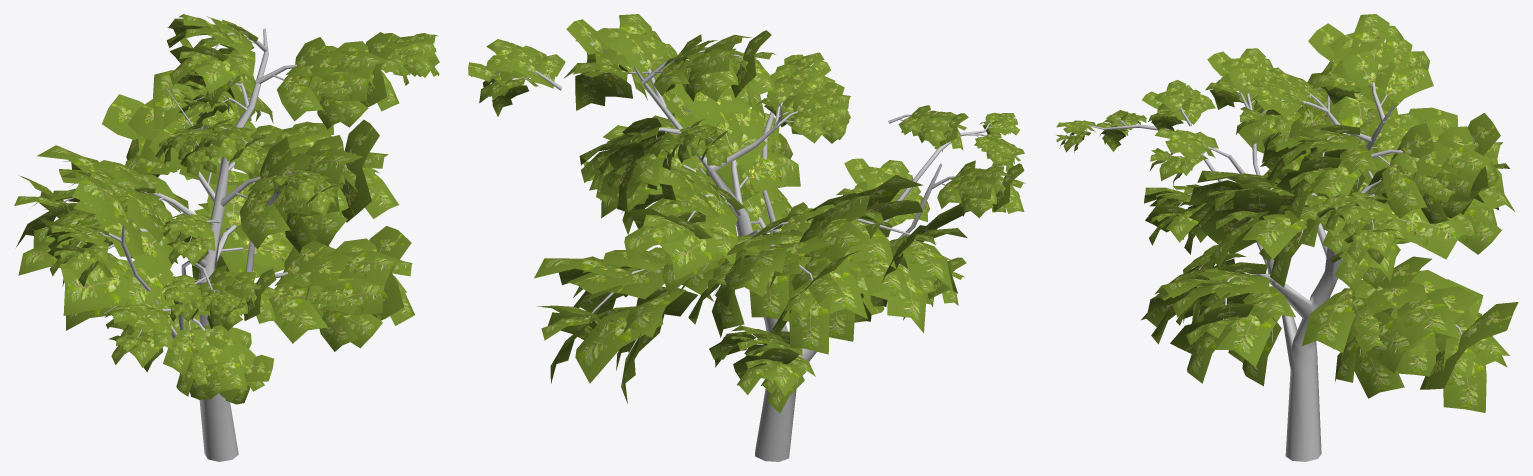
Rendered from tree21.dae.
The picture shows the model from 3 angles, left to right: view 1: azimuth 30°, elevation 25°; view 2: azimuth 150°, elevation 25°; view 3: azimuth 270°, elevation 25°; orthographic projection. The views are drawn at different scales.
Parts seen in each view (by area): view 1: tree small joined; view 2: tree small joined; view 3: tree small joined.
Part boxes in pixels (<box>): tree small joined: <box>14,14,439,461</box>; tree small joined: <box>468,14,1025,461</box>; tree small joined: <box>1056,14,1518,461</box>.
Bounding box in the file's own units: 4.98 × 4.2 × 4.4.
